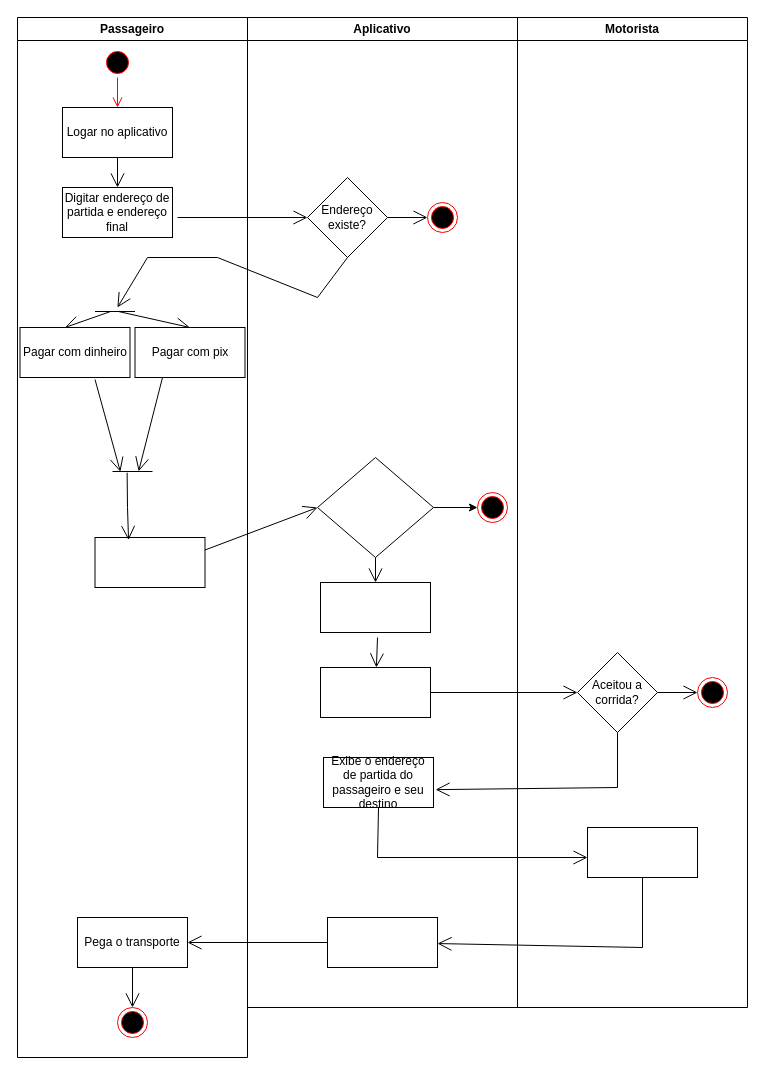
Image size: 765x1075. Some labels were removed from this diagram. The centre of each missing label's shape, as x and y in pixels:
"Busca o passageiro" goes at (642,852).
"Envia notificação dizendo que o transporte chegou" goes at (382,942).
"Forma de pagamento foi selecionada?" goes at (375,507).
"Localizar motoristas próximos do endereço de partida" goes at (375,607).
"Mandar solicitação de corrida para o motorista" goes at (375,692).
"Solicitar corrida" goes at (149,562).
